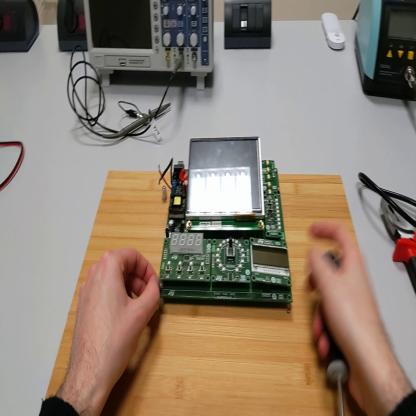hand: (306, 219, 389, 399), (66, 247, 160, 398)
low voltage board: (157, 136, 292, 305)
oscilloscope: (86, 1, 215, 87)
pliers: (381, 191, 416, 294)
screwdriver-: (326, 249, 352, 413)
socket: (2, 2, 42, 54), (59, 2, 89, 52)
welder station: (356, 3, 416, 101)
working area: (46, 174, 363, 416)
